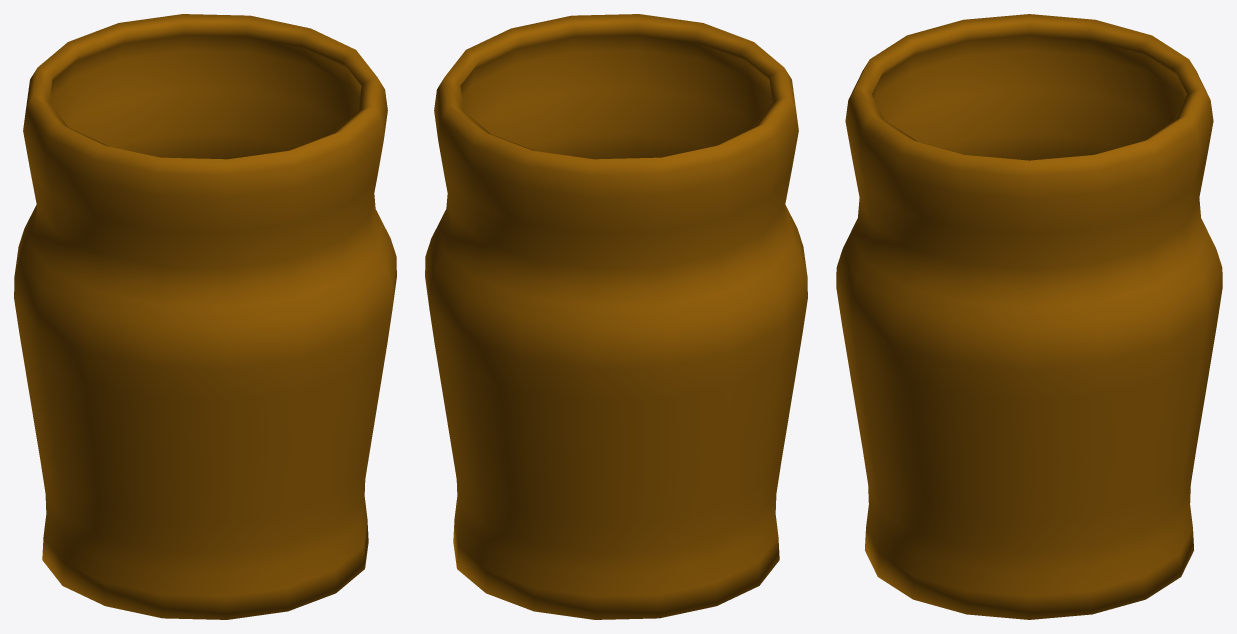
Rendered from PotteryLowPoly.fbx.
3 renders of one model, left to right at view 1: azimuth 30°, elevation 25°; view 2: azimuth 150°, elevation 25°; view 3: azimuth 270°, elevation 25°, orthographic.
Visible parts, largest first — view 1: Circle; view 2: Circle; view 3: Circle.
Boxes of the visible parts, x1=… form: Circle: x1=14, y1=14, x2=396, y2=619; Circle: x1=425, y1=14, x2=807, y2=619; Circle: x1=836, y1=14, x2=1222, y2=619.
Size of the model in its own units: 0.096 by 0.127 by 0.096.
